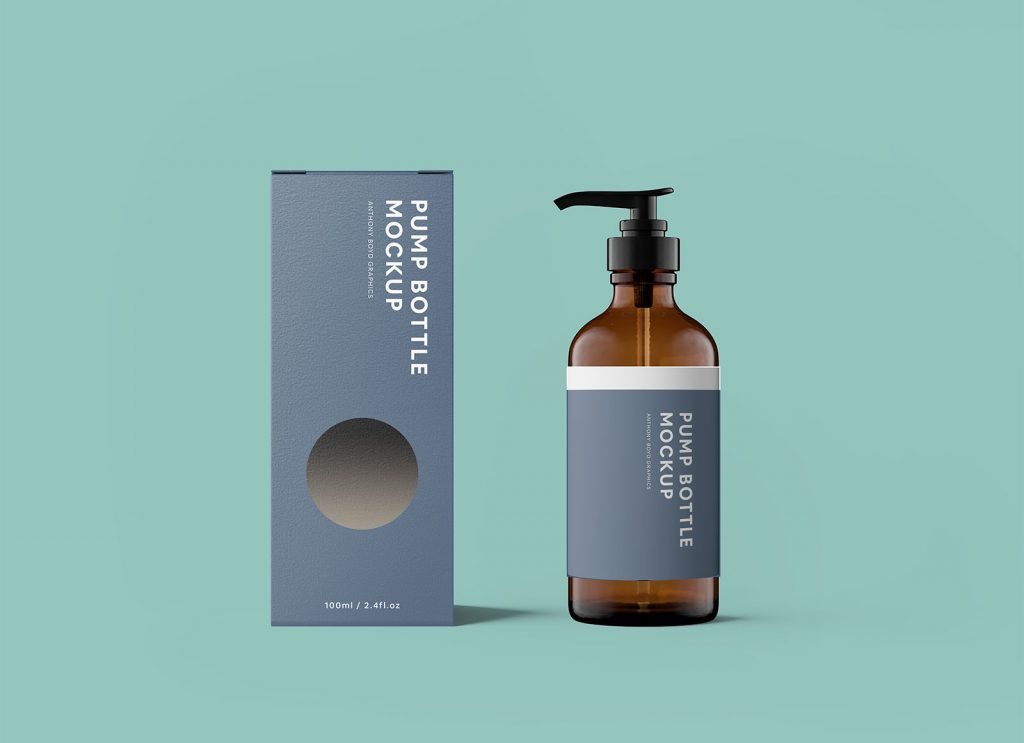Medicine: (526, 168, 744, 650), (260, 158, 466, 636)
